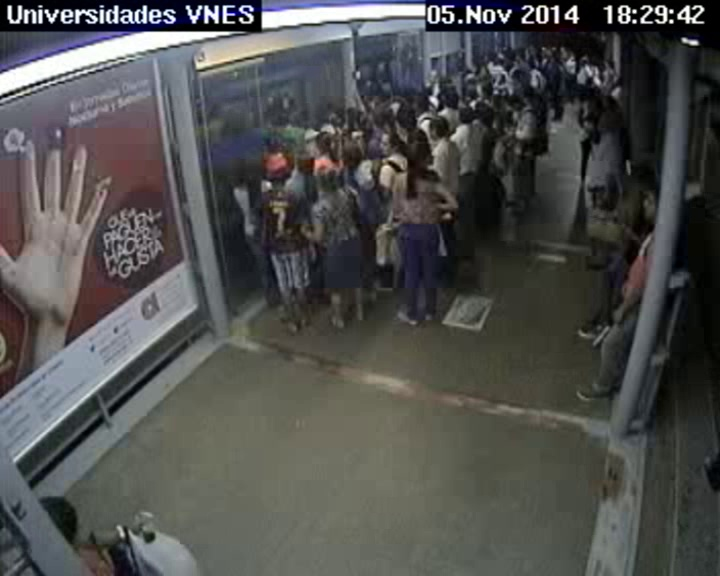person: (35, 496, 84, 553), (624, 159, 656, 191), (263, 152, 292, 185), (310, 158, 340, 189), (637, 191, 667, 221), (428, 115, 453, 143), (236, 158, 261, 184), (406, 146, 430, 173), (378, 132, 402, 156), (341, 142, 364, 165), (406, 128, 429, 150), (312, 132, 334, 155), (413, 92, 433, 113), (346, 128, 366, 149), (459, 108, 478, 127), (440, 79, 457, 98), (506, 96, 525, 113), (442, 90, 459, 108), (372, 111, 389, 129), (512, 70, 529, 87), (475, 81, 492, 97), (478, 107, 494, 123), (488, 93, 503, 110), (603, 93, 618, 108), (590, 130, 604, 146), (464, 85, 478, 99), (558, 46, 571, 60), (588, 85, 601, 99), (391, 86, 405, 99), (544, 49, 556, 61), (475, 59, 487, 70), (495, 74, 506, 86), (507, 49, 517, 60), (520, 46, 529, 57), (604, 59, 614, 68), (595, 59, 604, 69), (528, 45, 537, 55), (579, 56, 588, 65), (527, 59, 536, 68), (492, 57, 500, 66), (501, 46, 509, 54)
